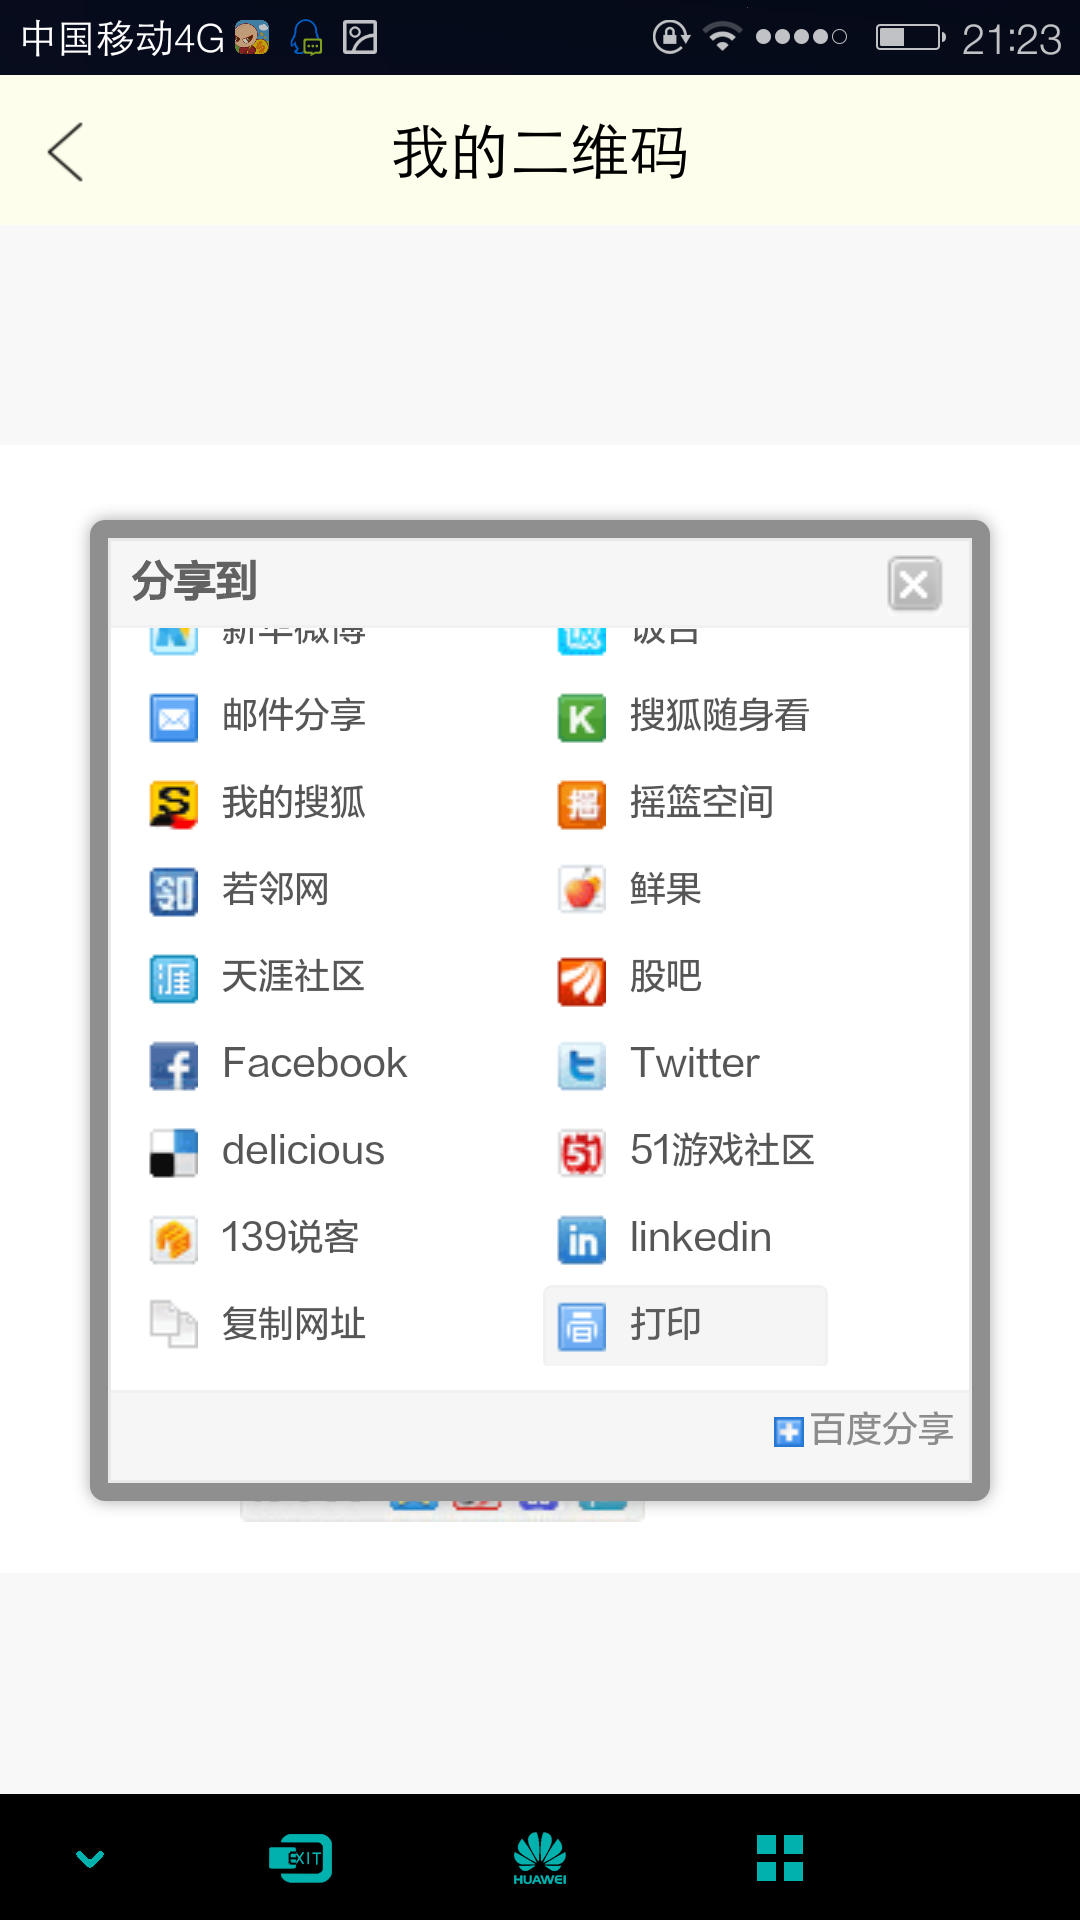textview: (84, 502, 998, 1509)
